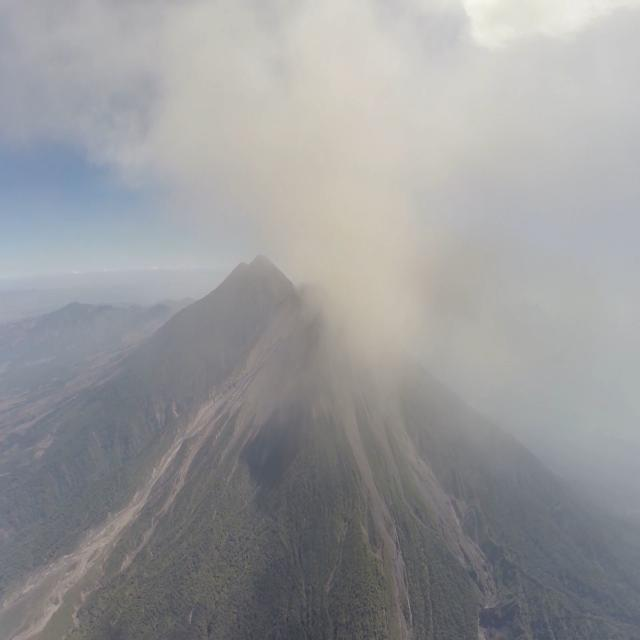Plume: (0, 2, 640, 481)
